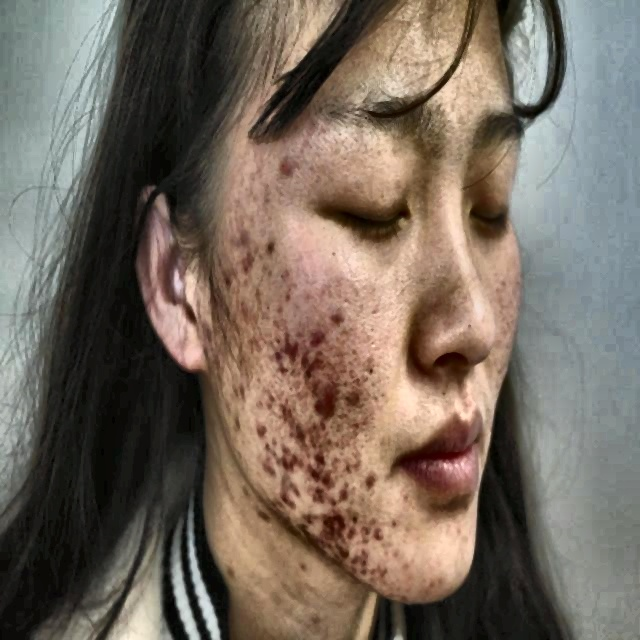papule: (332, 521, 358, 566), (302, 318, 330, 359), (330, 300, 353, 344), (300, 350, 324, 386), (213, 252, 235, 291), (312, 372, 339, 402), (245, 413, 272, 443), (284, 468, 308, 499), (308, 482, 330, 512), (274, 397, 296, 425), (342, 385, 362, 415), (310, 532, 329, 562), (229, 210, 246, 242), (319, 511, 338, 539), (275, 154, 296, 179), (265, 335, 283, 364), (236, 246, 256, 272), (338, 472, 352, 509), (278, 356, 295, 386), (357, 457, 375, 485), (310, 397, 329, 423), (306, 434, 325, 460), (315, 464, 334, 490), (277, 319, 294, 348), (289, 418, 307, 444), (279, 481, 292, 516), (357, 544, 370, 576), (268, 434, 284, 459), (282, 444, 298, 469), (330, 506, 345, 532), (370, 521, 385, 545), (264, 456, 280, 476), (345, 512, 359, 534), (312, 459, 318, 486)
